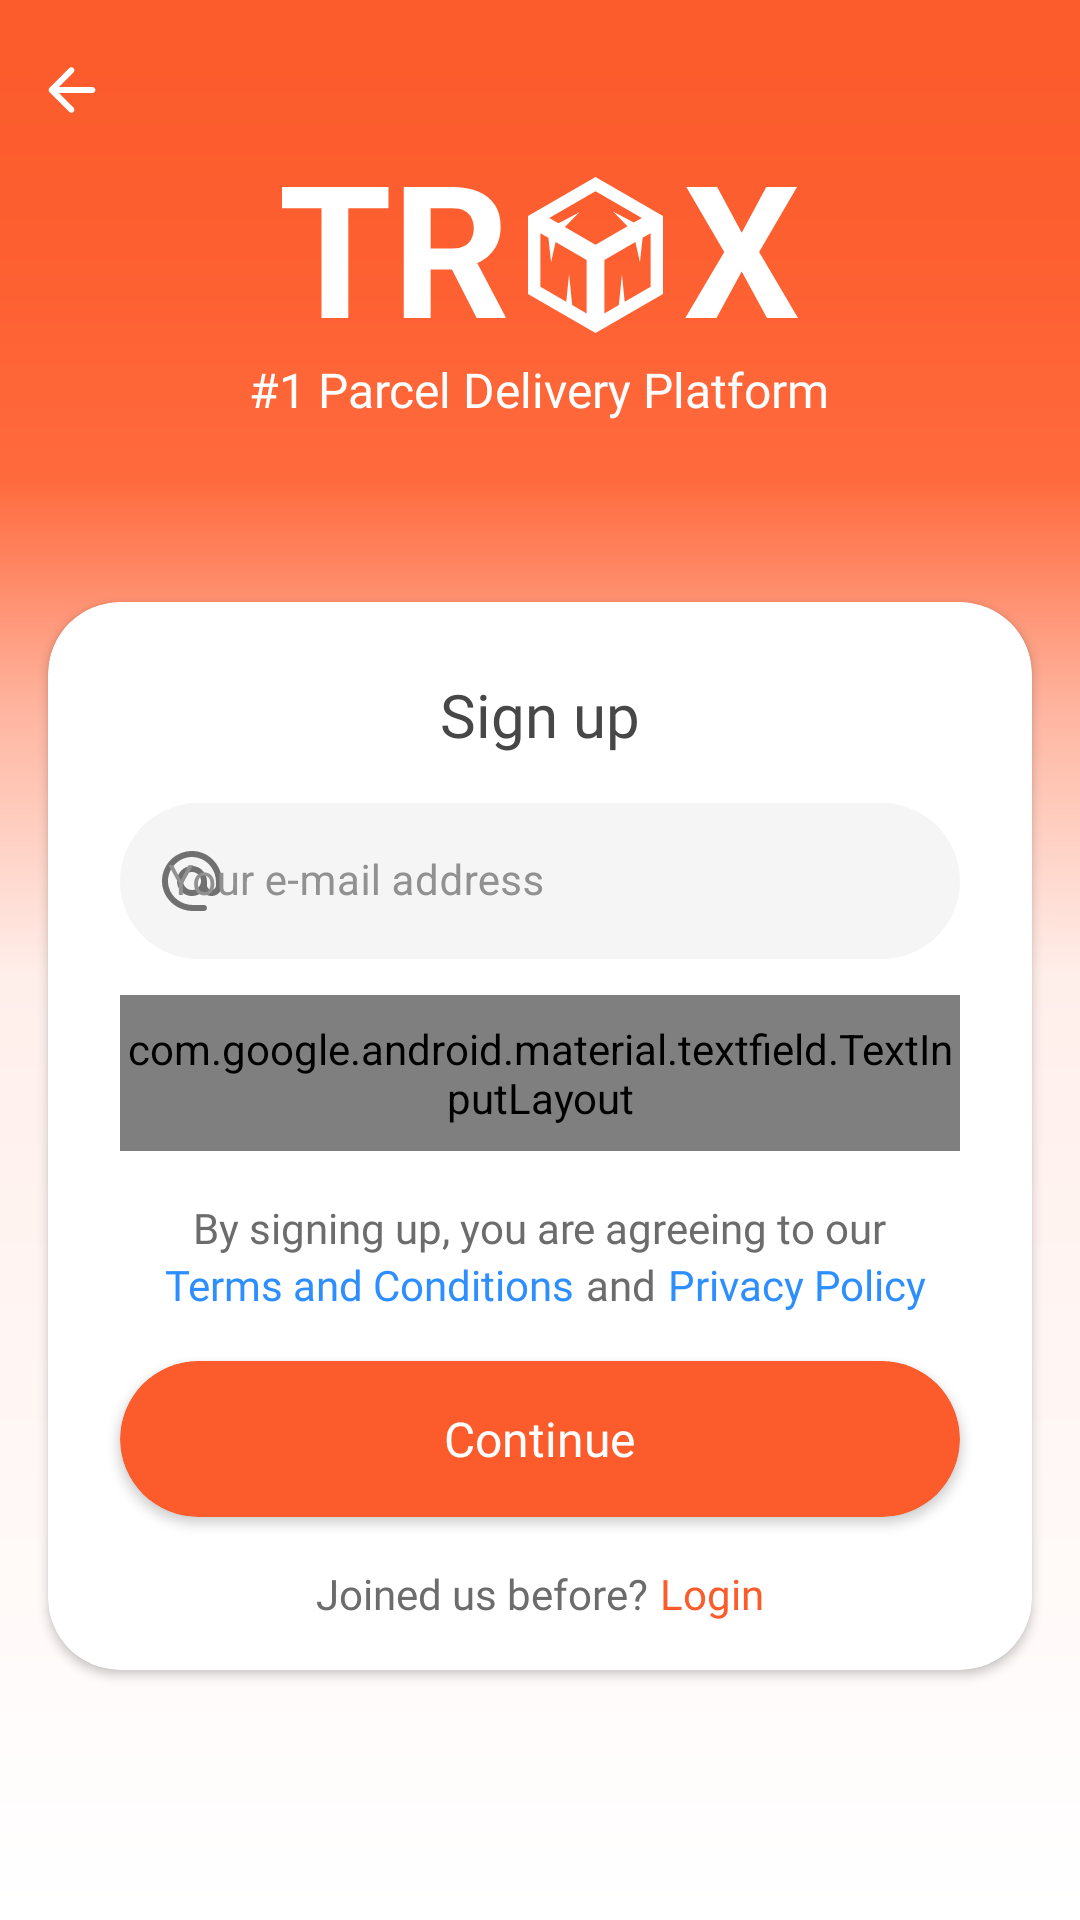

Where icons sit on this 1080 x 1920 app screen, as (x1, y1, x2, y2):
arrow left: (48, 67, 96, 113)
